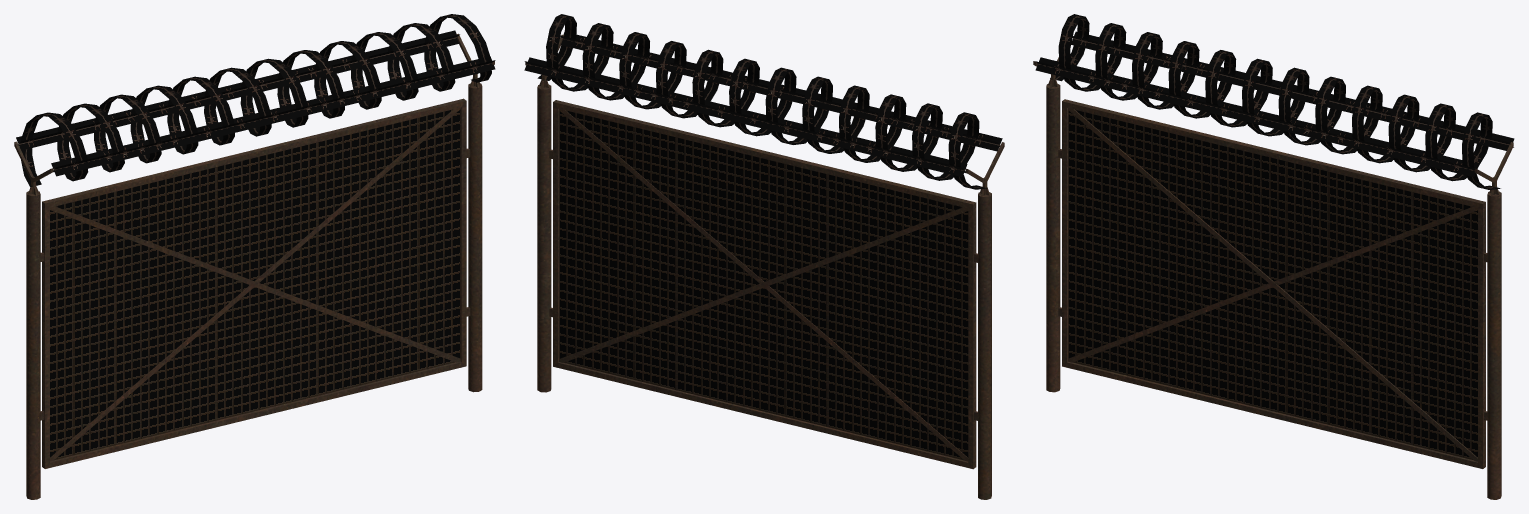
The model's file is fence_e_2.obj.
3 renders of one model, left to right at view 1: azimuth 30°, elevation 25°; view 2: azimuth 150°, elevation 25°; view 3: azimuth 330°, elevation 25°, orthographic.
Parts seen in each view (by area): view 1: fence_e_2; view 2: fence_e_2; view 3: fence_e_2.
Part boxes in pixels (box(x1,y1,x2,y2)): fence_e_2: box(14, 14, 495, 499); fence_e_2: box(524, 14, 1004, 499); fence_e_2: box(1033, 14, 1514, 499).
Size of the model in its own units: 3.61 by 2.85 by 0.5551.
